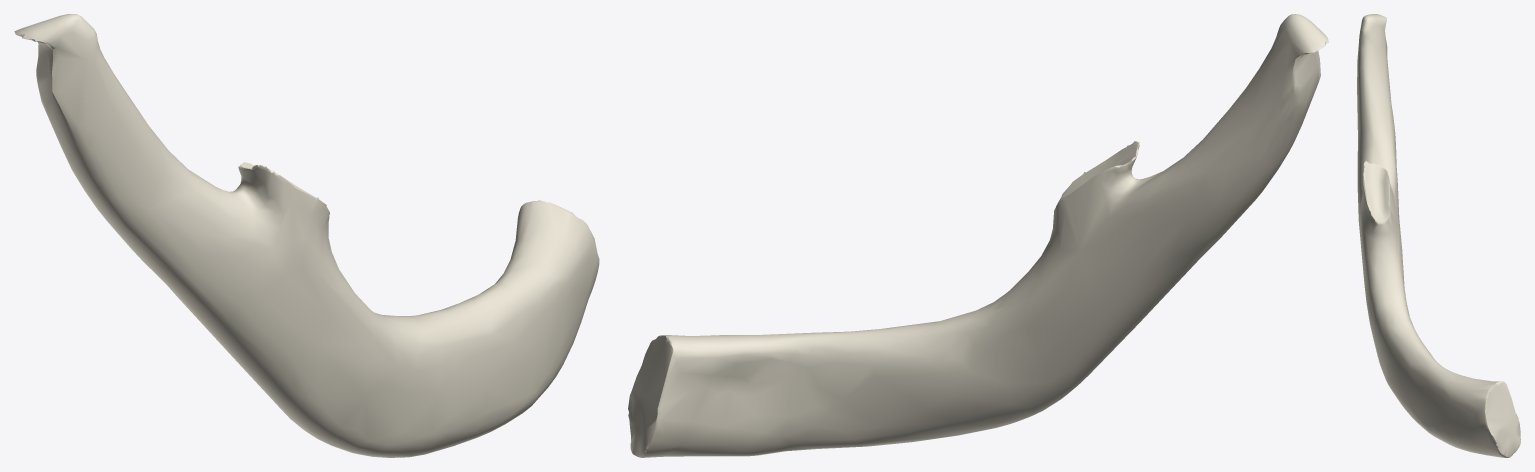
File: fma8275_fj3255.glb
3 views of the same model, side by side, from view 1: azimuth 30°, elevation 25°; view 2: azimuth 150°, elevation 25°; view 3: azimuth 270°, elevation 25° (orthographic). The views are drawn at different scales.
Visible parts, largest first — view 1: FMA8275_FJ3255; view 2: FMA8275_FJ3255; view 3: FMA8275_FJ3255.
Part boxes in pixels (left/top/right/bottom): FMA8275_FJ3255: left=14, top=14, right=599, bottom=457; FMA8275_FJ3255: left=628, top=14, right=1328, bottom=457; FMA8275_FJ3255: left=1357, top=14, right=1520, bottom=457.
Bounding box in the file's own units: 0.1051 × 0.0838 × 0.0423.
